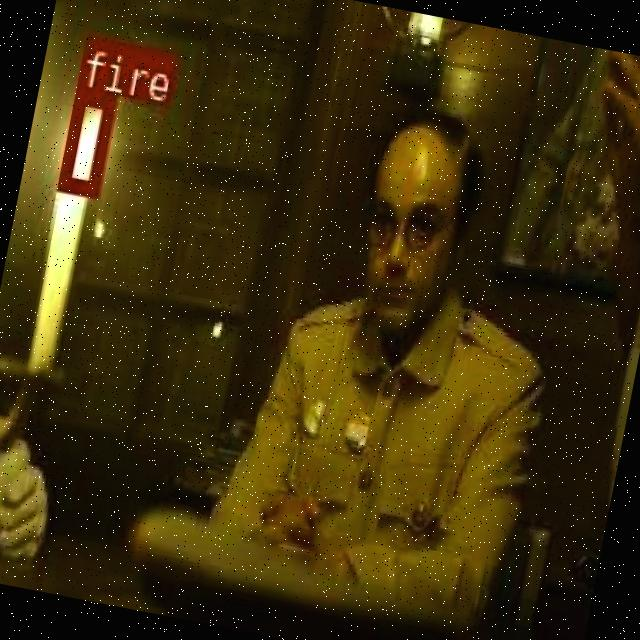fire: (55, 84, 114, 195)
